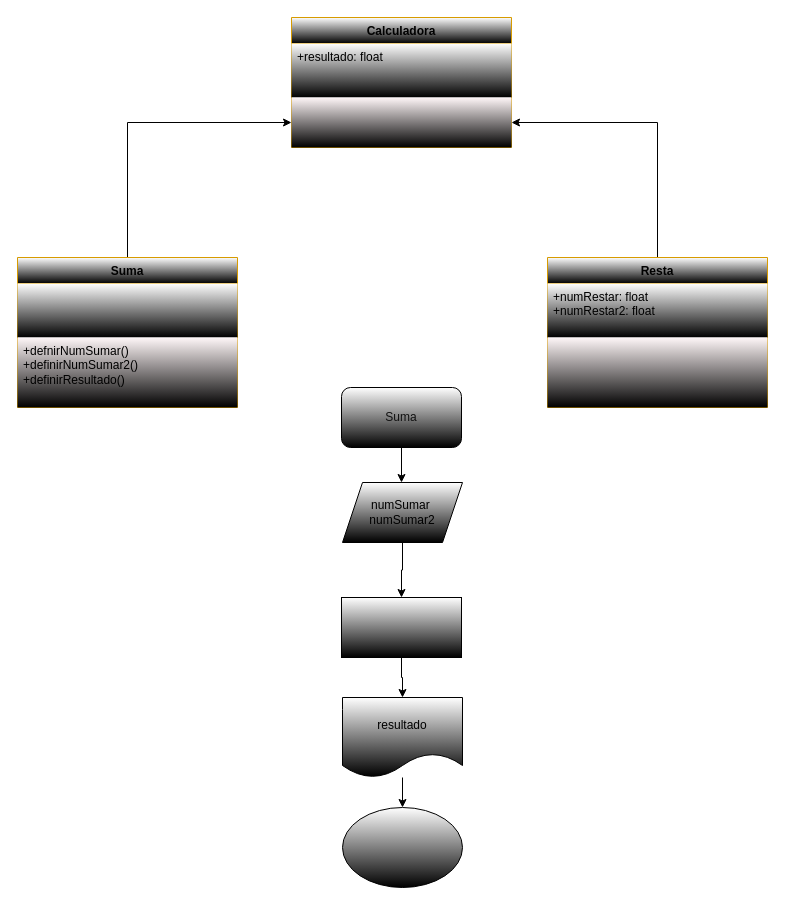
The diagram is 785 pixels wide and 905 high, and some of its shapes have lost their labels. Each missing label, with the centre of its shape:
"+definirResultado()" goes at [401,122].
"+defnirNumRestar() +definirNumRestar2() +definirResultado()" goes at [657,372].
"+numSumar: float +numSumar2: float" goes at [127,310].
"Fin" goes at [402,847].
"numSumar + numSumar2" goes at [401,627].
